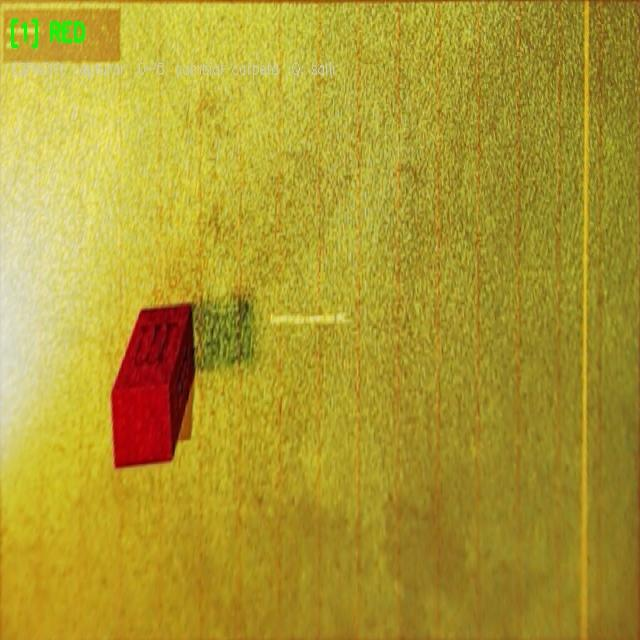red: (112, 307, 194, 467)
